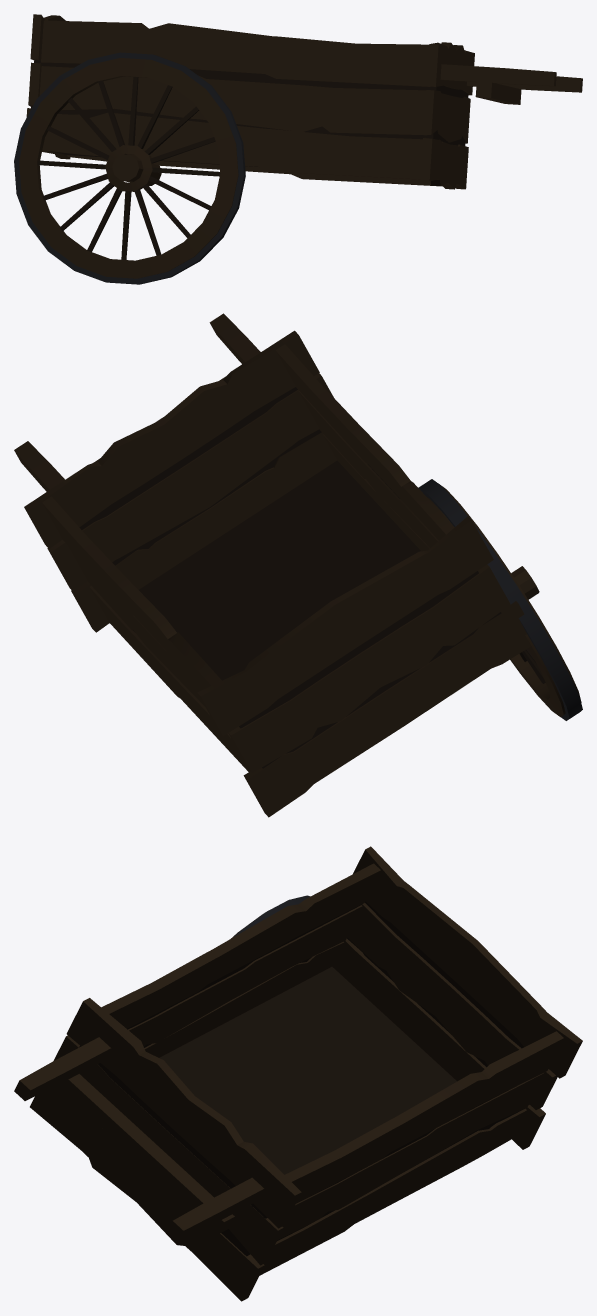
Rendered from cart.glb.
3 renders of one model, top to bottom at view 1: azimuth 30°, elevation 25°; view 2: azimuth 150°, elevation 25°; view 3: azimuth 270°, elevation 25°, orthographic. The views are drawn at different scales.
Visible parts, largest first — view 1: Cart_Cube.350; view 2: Cart_Cube.350; view 3: Cart_Cube.350.
Boxes of the visible parts, x1=… form: Cart_Cube.350: x1=14, y1=14, x2=582, y2=284; Cart_Cube.350: x1=14, y1=313, x2=582, y2=817; Cart_Cube.350: x1=14, y1=846, x2=582, y2=1301.
Size of the model in its own units: 3.31 by 1.38 by 2.83.
